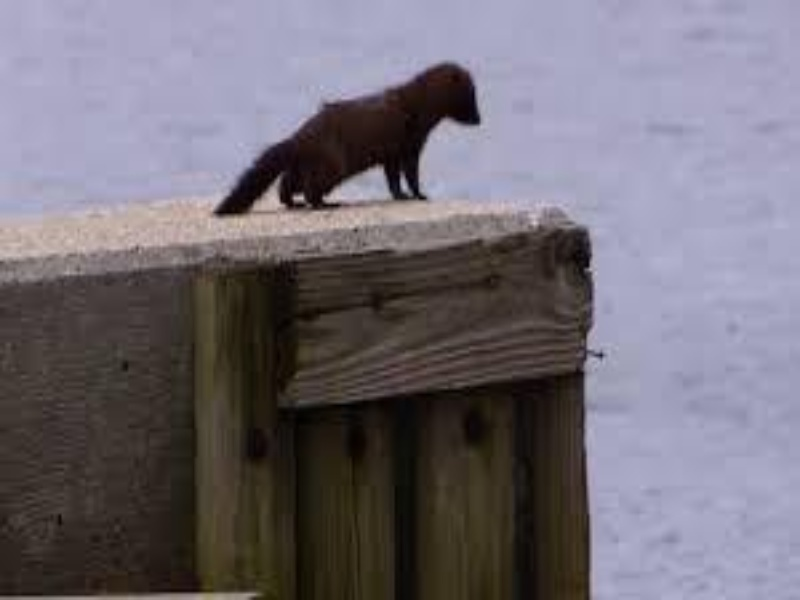minkish: (210, 54, 484, 216)
